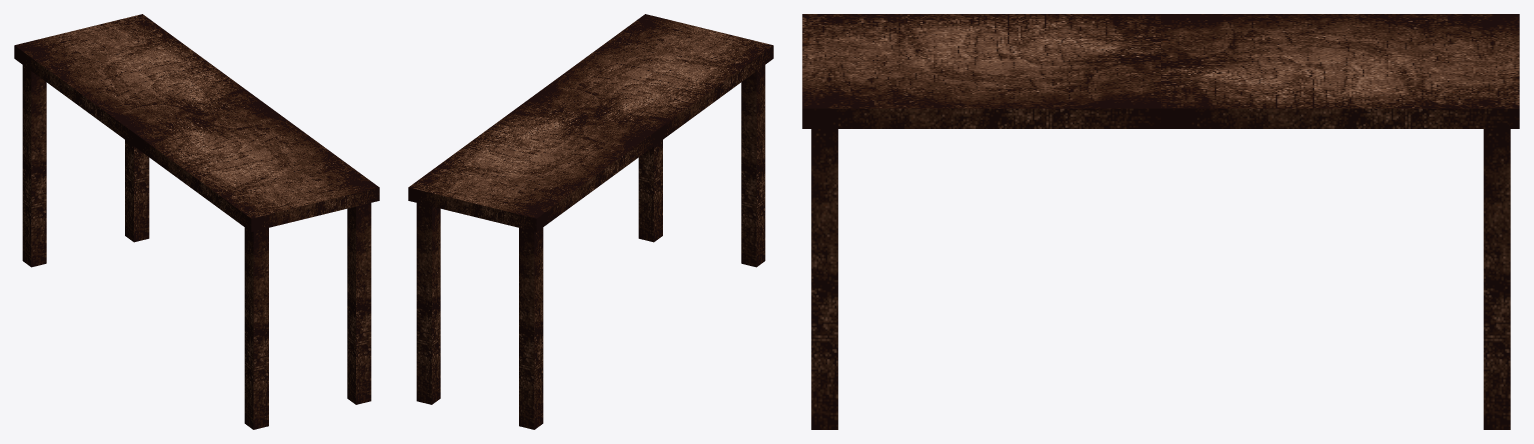
The model's file is Mesa_2.fbx.
3 renders of one model, left to right at view 1: azimuth 30°, elevation 25°; view 2: azimuth 150°, elevation 25°; view 3: azimuth 270°, elevation 25°, orthographic. The views are drawn at different scales.
Parts seen in each view (by area): view 1: Mesa_2; view 2: Mesa_2; view 3: Mesa_2.
Part boxes in pixels (x1,y1,x2,y2): Mesa_2: (14, 14, 379, 429); Mesa_2: (408, 14, 773, 429); Mesa_2: (802, 14, 1519, 429).
Bounding box in the file's own units: 0.5 × 0.8 × 1.6.
